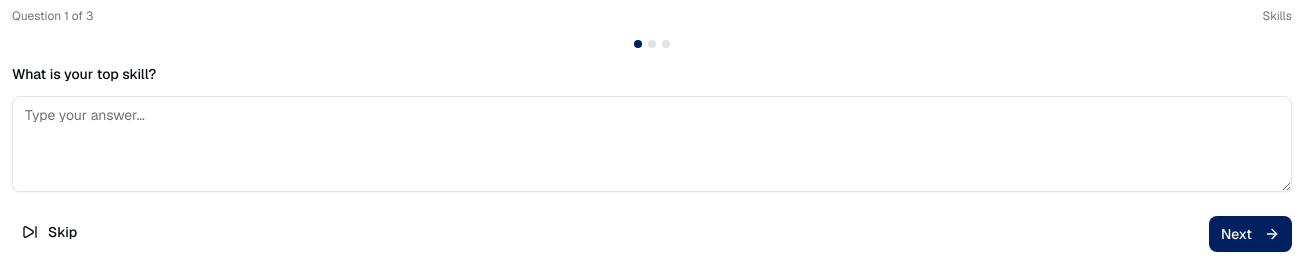
Test: StepQuestions › navigates back and preserves answer
Type "React" into the text box with placeholder "Type your answer..." at x=652, y=144, box [12,96,1292,192]
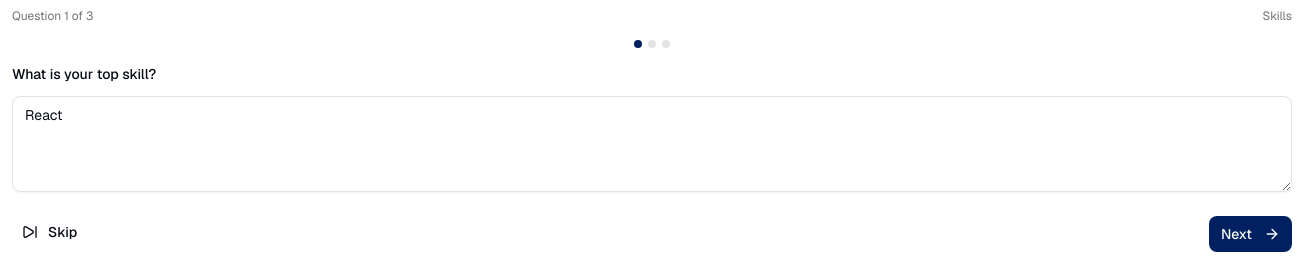
Click the button "Next" at x=1250, y=234, box [1209,216,1292,252]
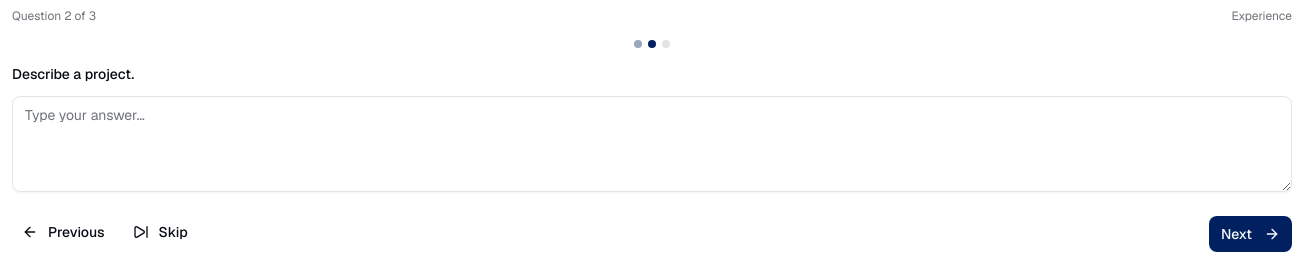
Click the button "Previous" at x=63, y=232, box [12,216,114,248]
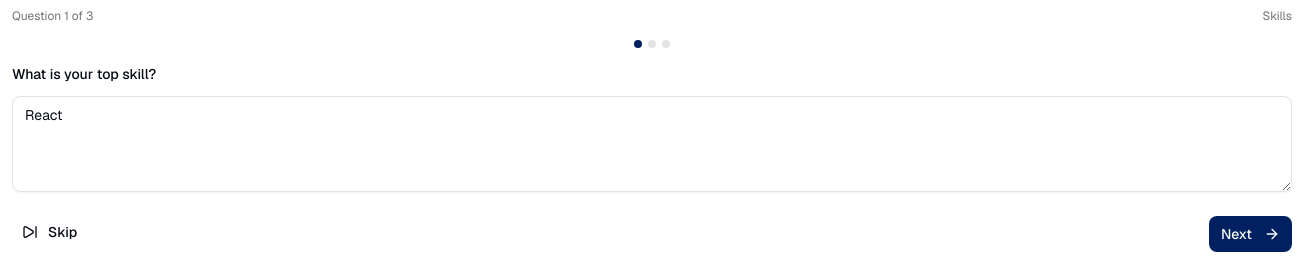
Expected: the text "What is your top skill?" is shown, [12,65,156,83]
